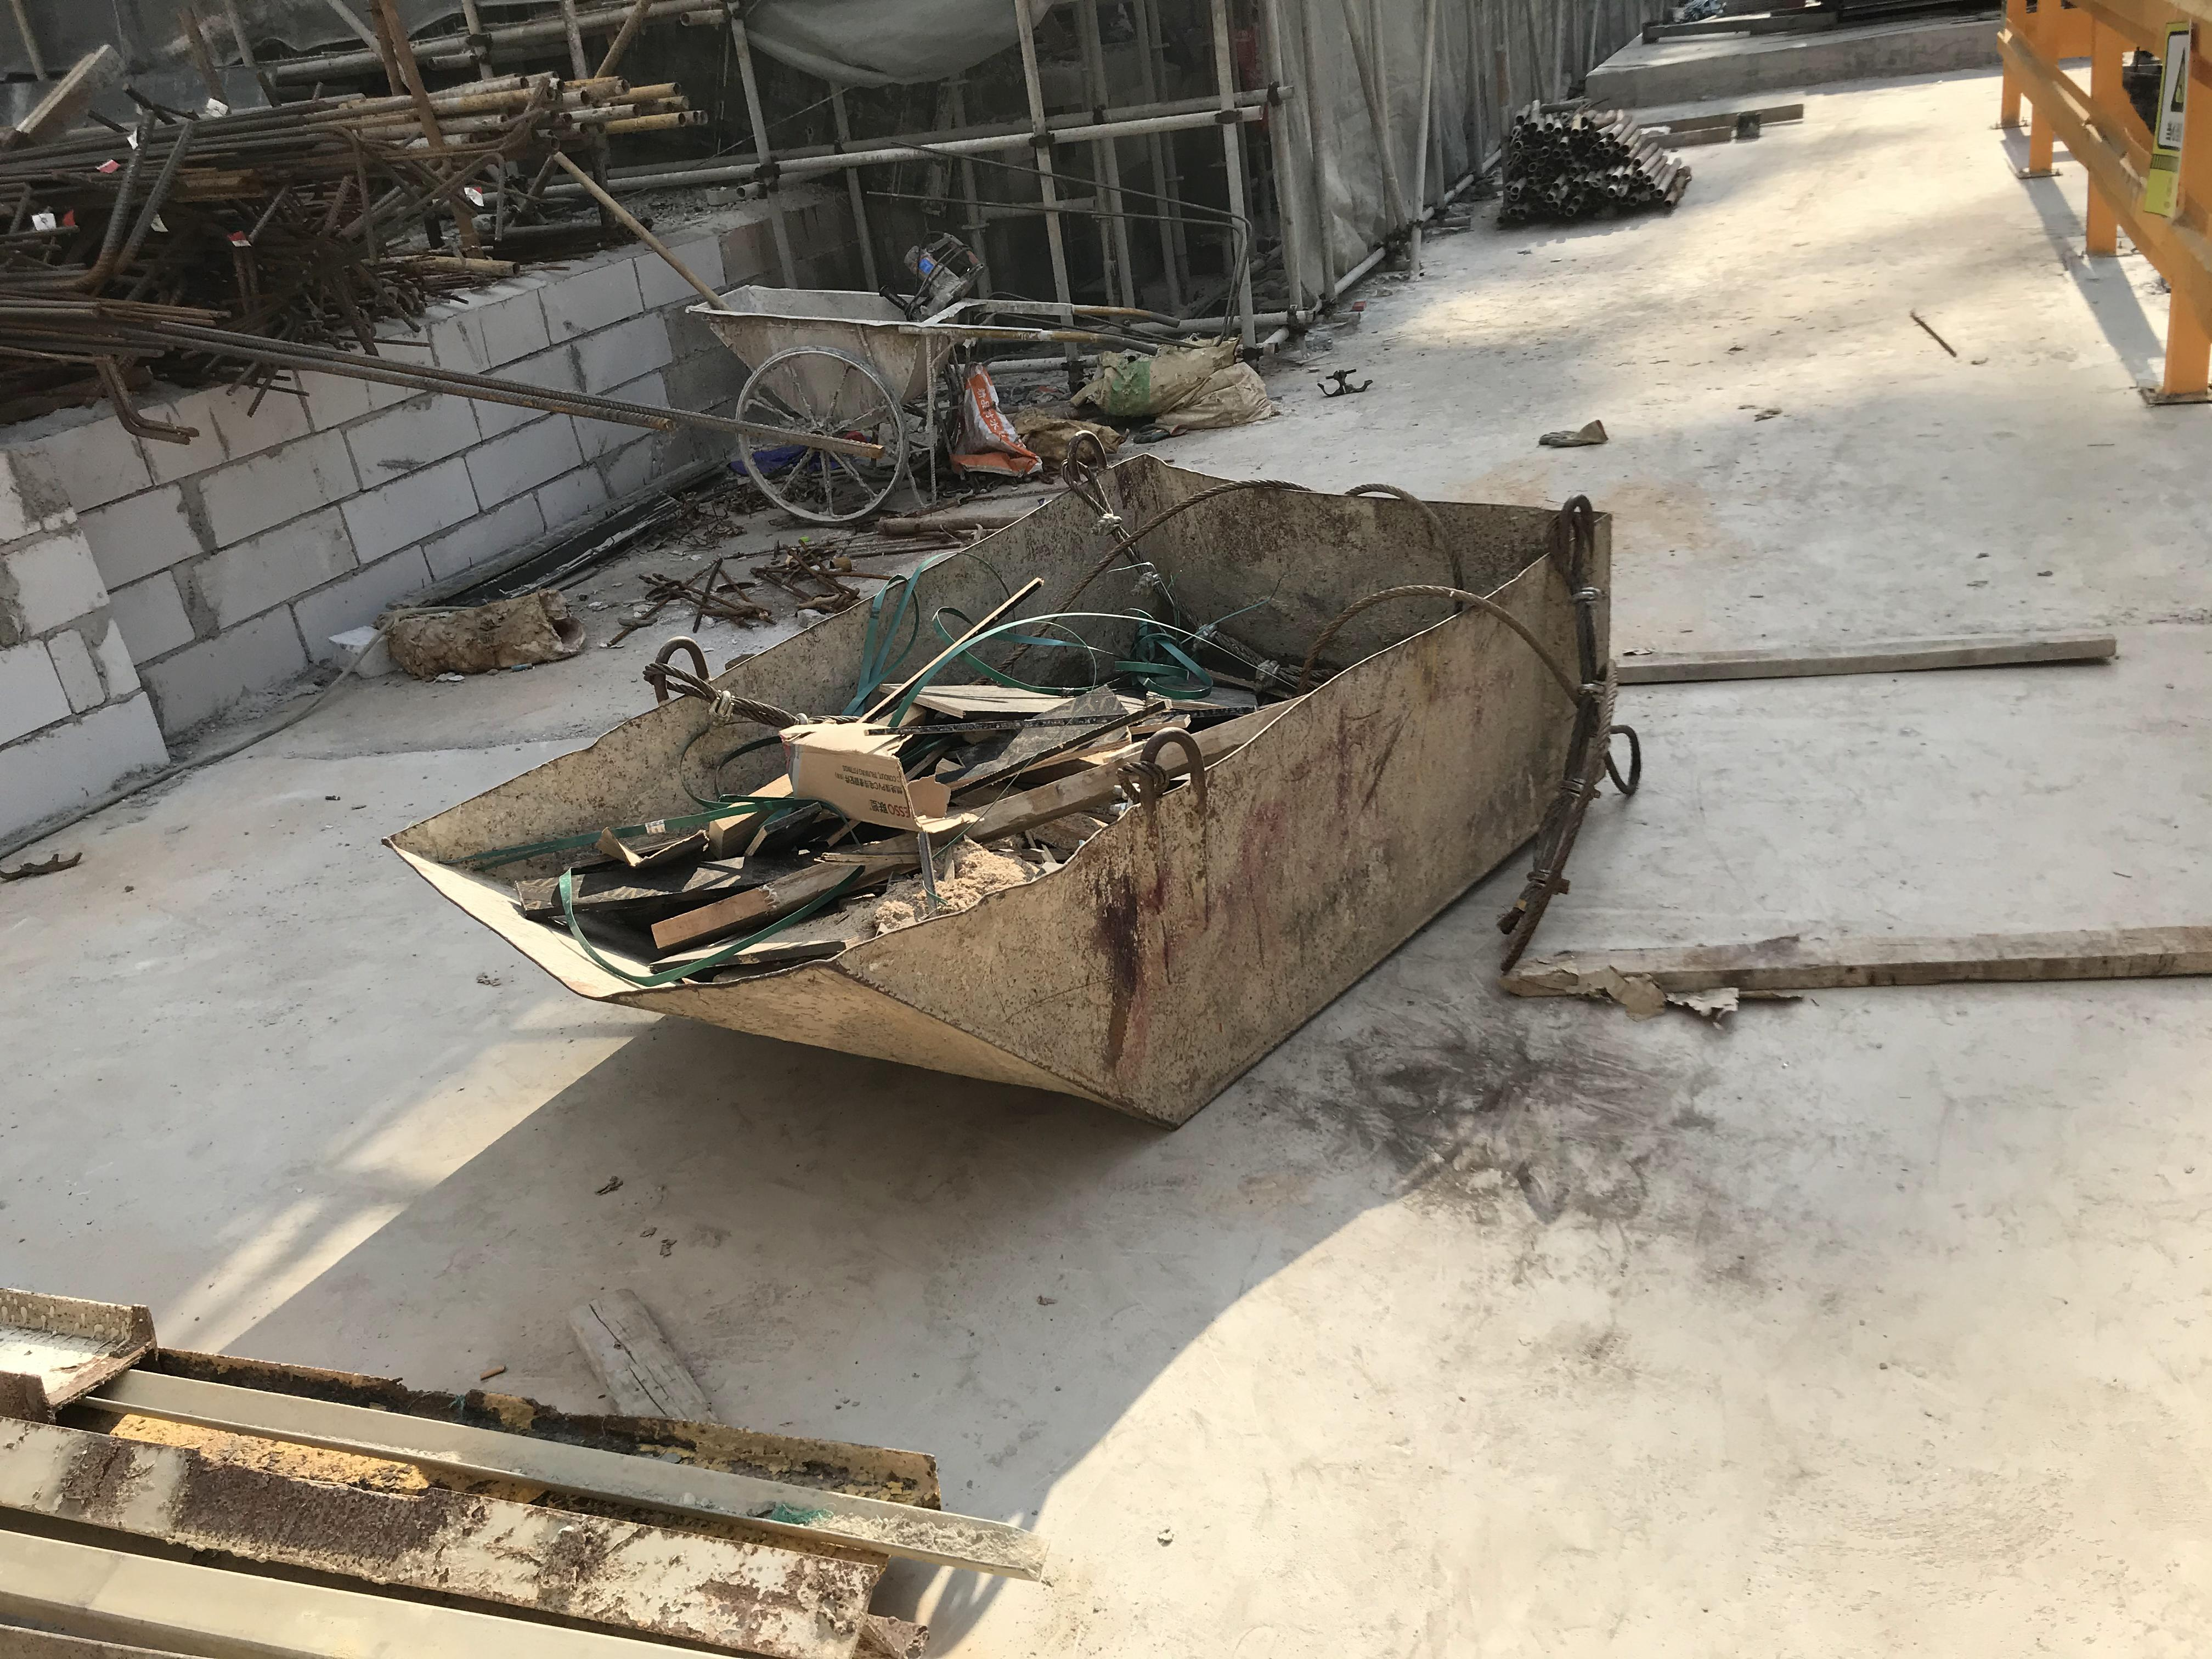hopper: (374, 477, 1627, 1131)
